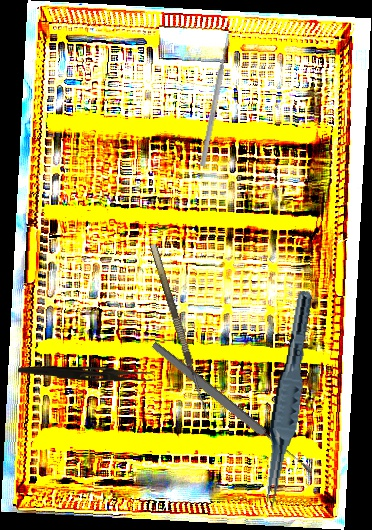Dressing Forceps: (17, 364, 154, 383)
Hook Surgical: (149, 240, 220, 421)
Pusher: (198, 32, 233, 168)
Surgical Spoon: (149, 339, 315, 477)
Tissue Forceps: (258, 289, 315, 512)
